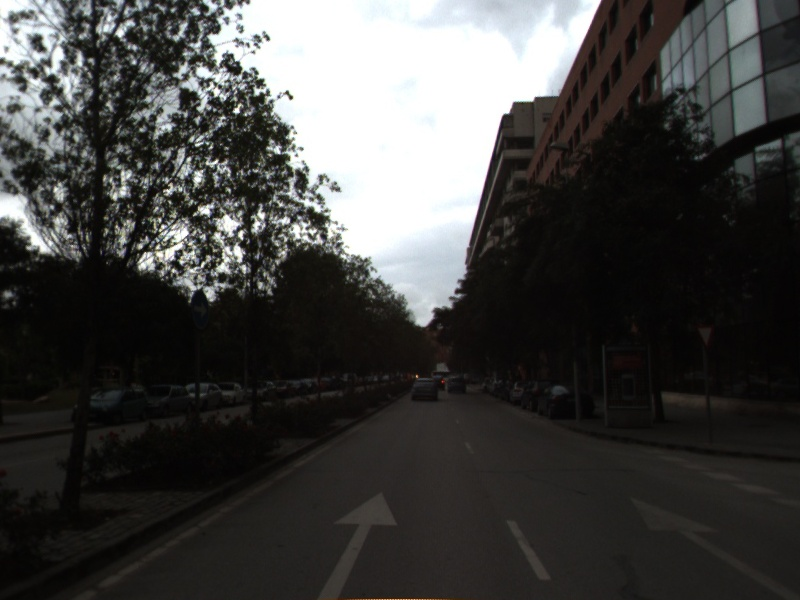STRAIGHT: (627, 494, 800, 599), (314, 489, 401, 600)
